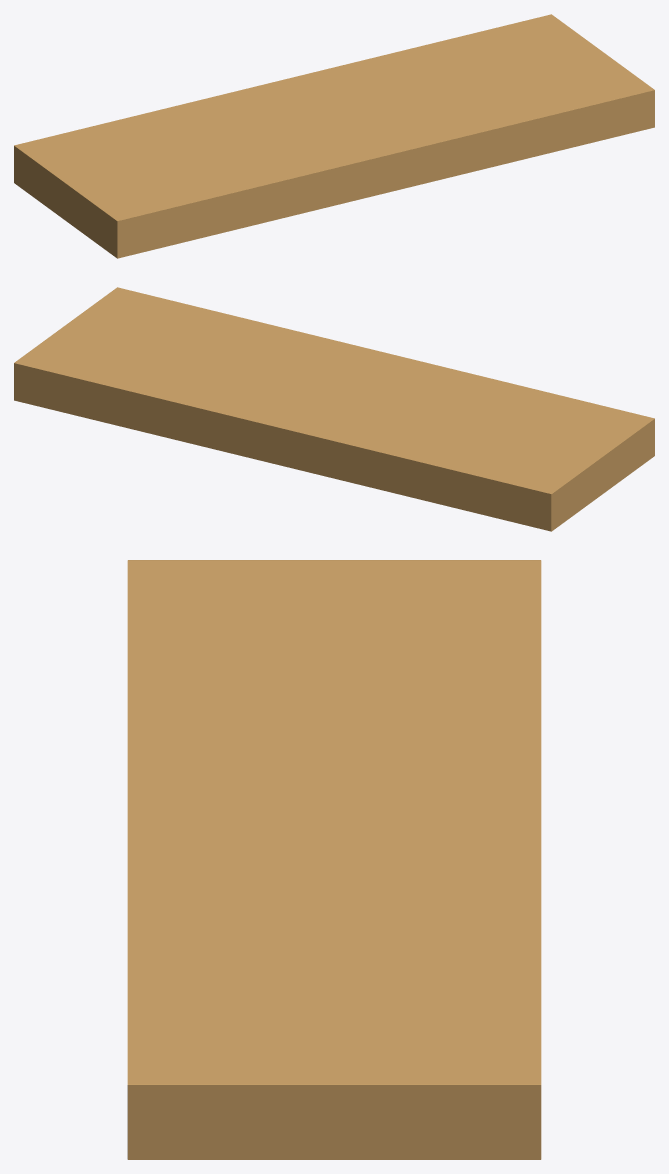
File: WoodBoard.fbx
3 renders of one model, top to bottom at view 1: azimuth 30°, elevation 25°; view 2: azimuth 150°, elevation 25°; view 3: azimuth 270°, elevation 25°, orthographic. The views are drawn at different scales.
Parts seen in each view (by area): view 1: Prop_Board; view 2: Prop_Board; view 3: Prop_Board.
Part boxes in pixels (x1,y1,x2,y2): Prop_Board: (14,14,654,258); Prop_Board: (14,287,654,531); Prop_Board: (127,560,541,1159).
Size of the model in its own units: 0.3 by 0.02 by 0.1.
